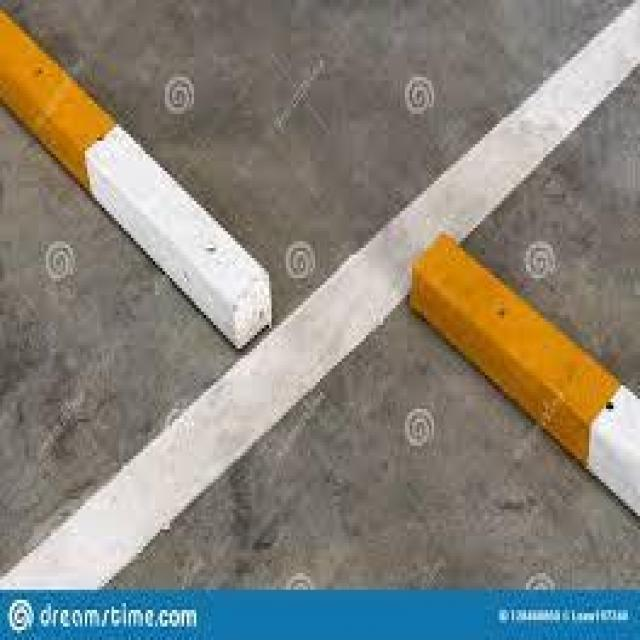curb: (6, 20, 277, 343), (415, 231, 640, 498)
